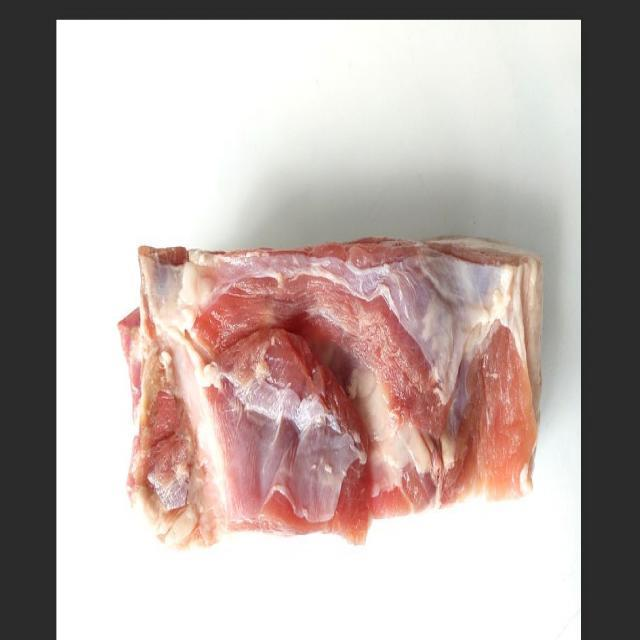pork: (94, 238, 561, 561)
